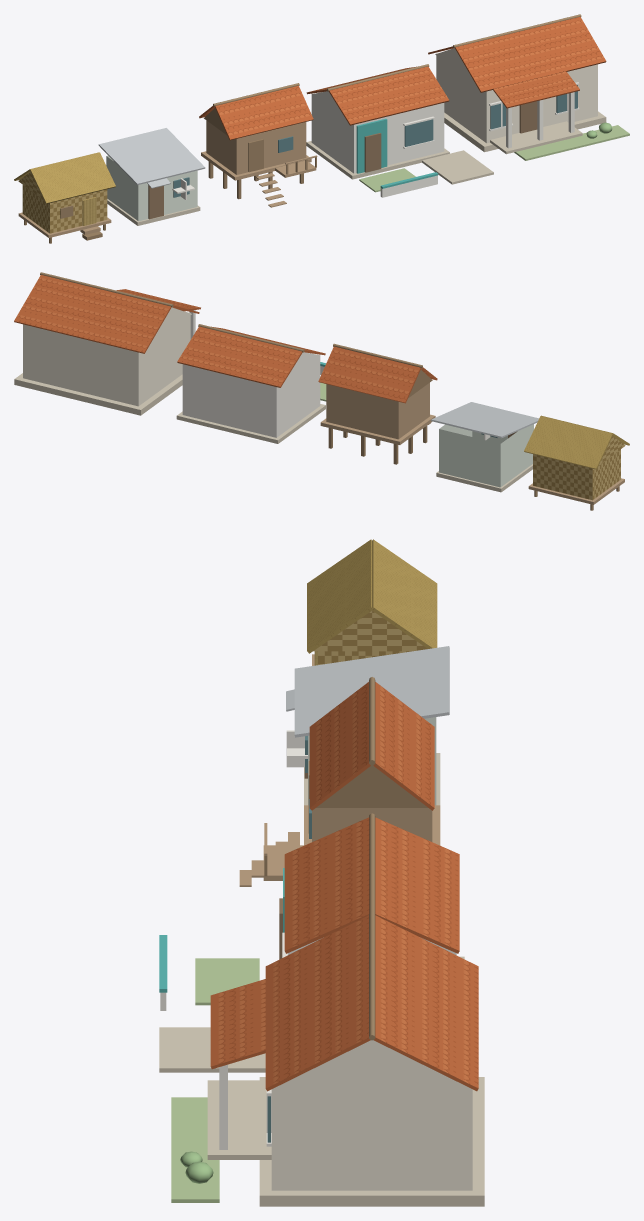
Rendered from kit-30-rumah-1-5.glb.
The picture shows the model from 3 angles, top to bottom: view 1: azimuth 30°, elevation 25°; view 2: azimuth 150°, elevation 25°; view 3: azimuth 270°, elevation 25°; orthographic projection. The views are drawn at different scales.
Visible parts, largest first — view 1: Rumah5_TerasGenteng, Rumah4_Minimalis, Rumah3_RumahPanggung, Rumah2_RumahPetak, Rumah1_GubukBambu; view 2: Rumah5_TerasGenteng, Rumah4_Minimalis, Rumah3_RumahPanggung, Rumah2_RumahPetak, Rumah1_GubukBambu; view 3: Rumah5_TerasGenteng, Rumah4_Minimalis, Rumah3_RumahPanggung, Rumah1_GubukBambu, Rumah2_RumahPetak.
Part boxes in pixels (x1=…): Rumah5_TerasGenteng: x1=428, y1=14, x2=629, y2=160; Rumah4_Minimalis: x1=306, y1=64, x2=493, y2=197; Rumah3_RumahPanggung: x1=199, y1=83, x2=317, y2=207; Rumah2_RumahPetak: x1=98, y1=128, x2=205, y2=225; Rumah1_GubukBambu: x1=14, y1=152, x2=115, y2=243; Rumah5_TerasGenteng: x1=14, y1=272, x2=200, y2=415; Rumah4_Minimalis: x1=176, y1=324, x2=326, y2=443; Rumah3_RumahPanggung: x1=318, y1=343, x2=437, y2=464; Rumah2_RumahPetak: x1=431, y1=402, x2=538, y2=492; Rumah1_GubukBambu: x1=524, y1=415, x2=629, y2=510; Rumah5_TerasGenteng: x1=171, y1=911, x2=484, y2=1206; Rumah4_Minimalis: x1=159, y1=813, x2=464, y2=1072; Rumah3_RumahPanggung: x1=239, y1=677, x2=440, y2=886; Rumah1_GubukBambu: x1=307, y1=539, x2=437, y2=665; Rumah2_RumahPetak: x1=286, y1=646, x2=449, y2=805.
Bounding box in the file's own units: 31.65 × 4.79 × 8.1.
16 materials, 4 textured.
